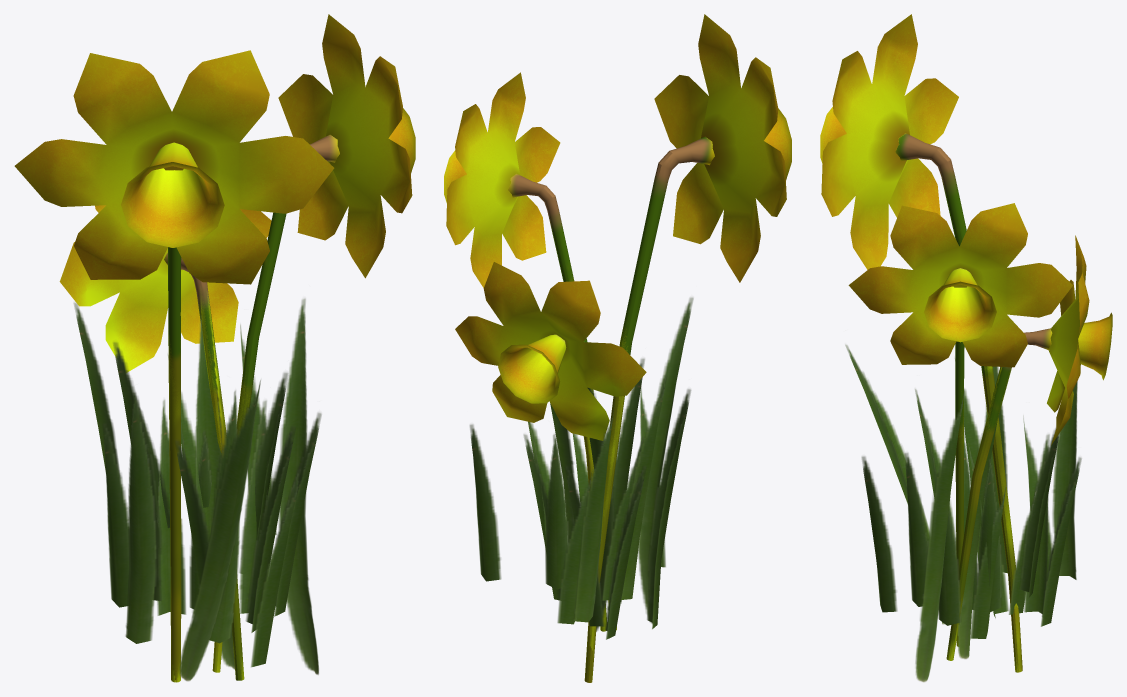
File: daffodils黄水仙.glb
3 renders of one model, left to right at view 1: azimuth 30°, elevation 25°; view 2: azimuth 150°, elevation 25°; view 3: azimuth 270°, elevation 25°, orthographic. The views are drawn at different scales.
Parts seen in each view (by area): view 1: daffodil; view 2: daffodil; view 3: daffodil.
Part boxes in pixels (x1,y1,x2,y2): daffodil: (14, 14, 415, 682); daffodil: (444, 14, 791, 682); daffodil: (820, 14, 1112, 682).
Size of the model in its own units: 57.43 by 102 by 44.93.
2 materials, 2 textured.
